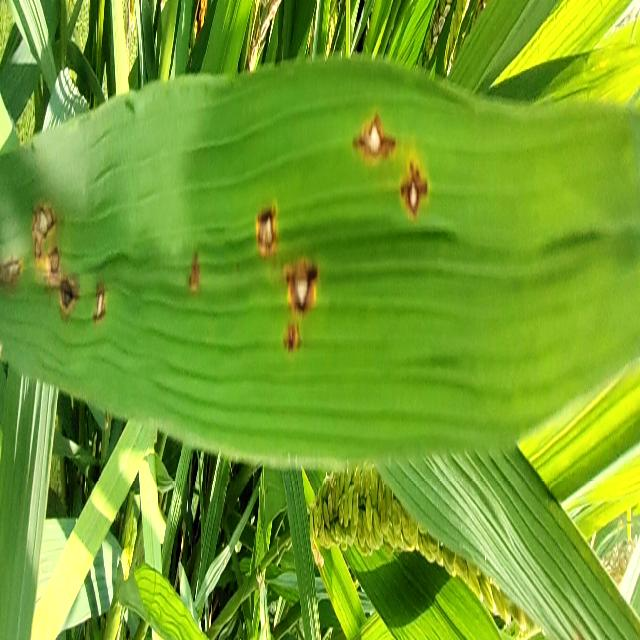LEAF BLAST: (354, 113, 395, 160), (285, 257, 317, 312), (400, 161, 428, 219), (32, 204, 55, 259), (255, 206, 277, 255), (59, 276, 77, 313), (0, 256, 21, 285), (283, 319, 300, 352), (45, 248, 59, 283), (93, 282, 105, 322)
